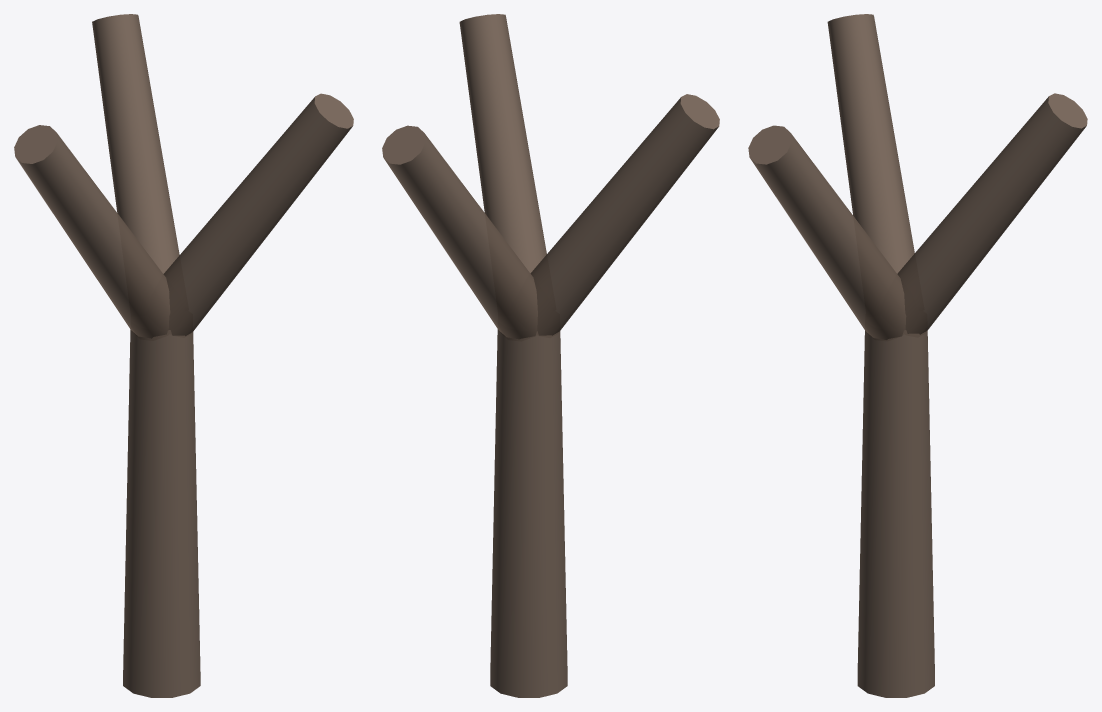
File: fractaltree1_1.glb
3 views of the same model, side by side, from view 1: azimuth 30°, elevation 25°; view 2: azimuth 150°, elevation 25°; view 3: azimuth 270°, elevation 25° (orthographic).
Size of the model in its own units: 2.66 by 5.21 by 2.66.
